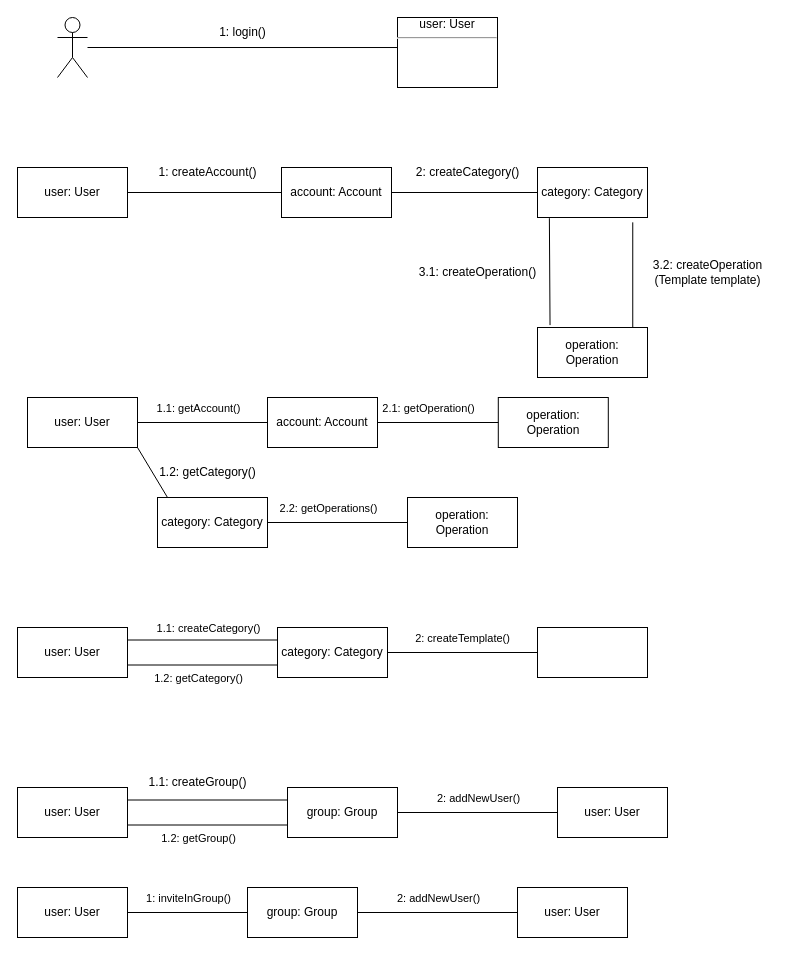
This 790x955 diagram has some shape labels left out. The shapes that lost their labels are listed below. From the top down, each one's centre as x and y in pixels, then its label:
At point (72, 47): "Пользователь".
At point (592, 652): "template: Template".
